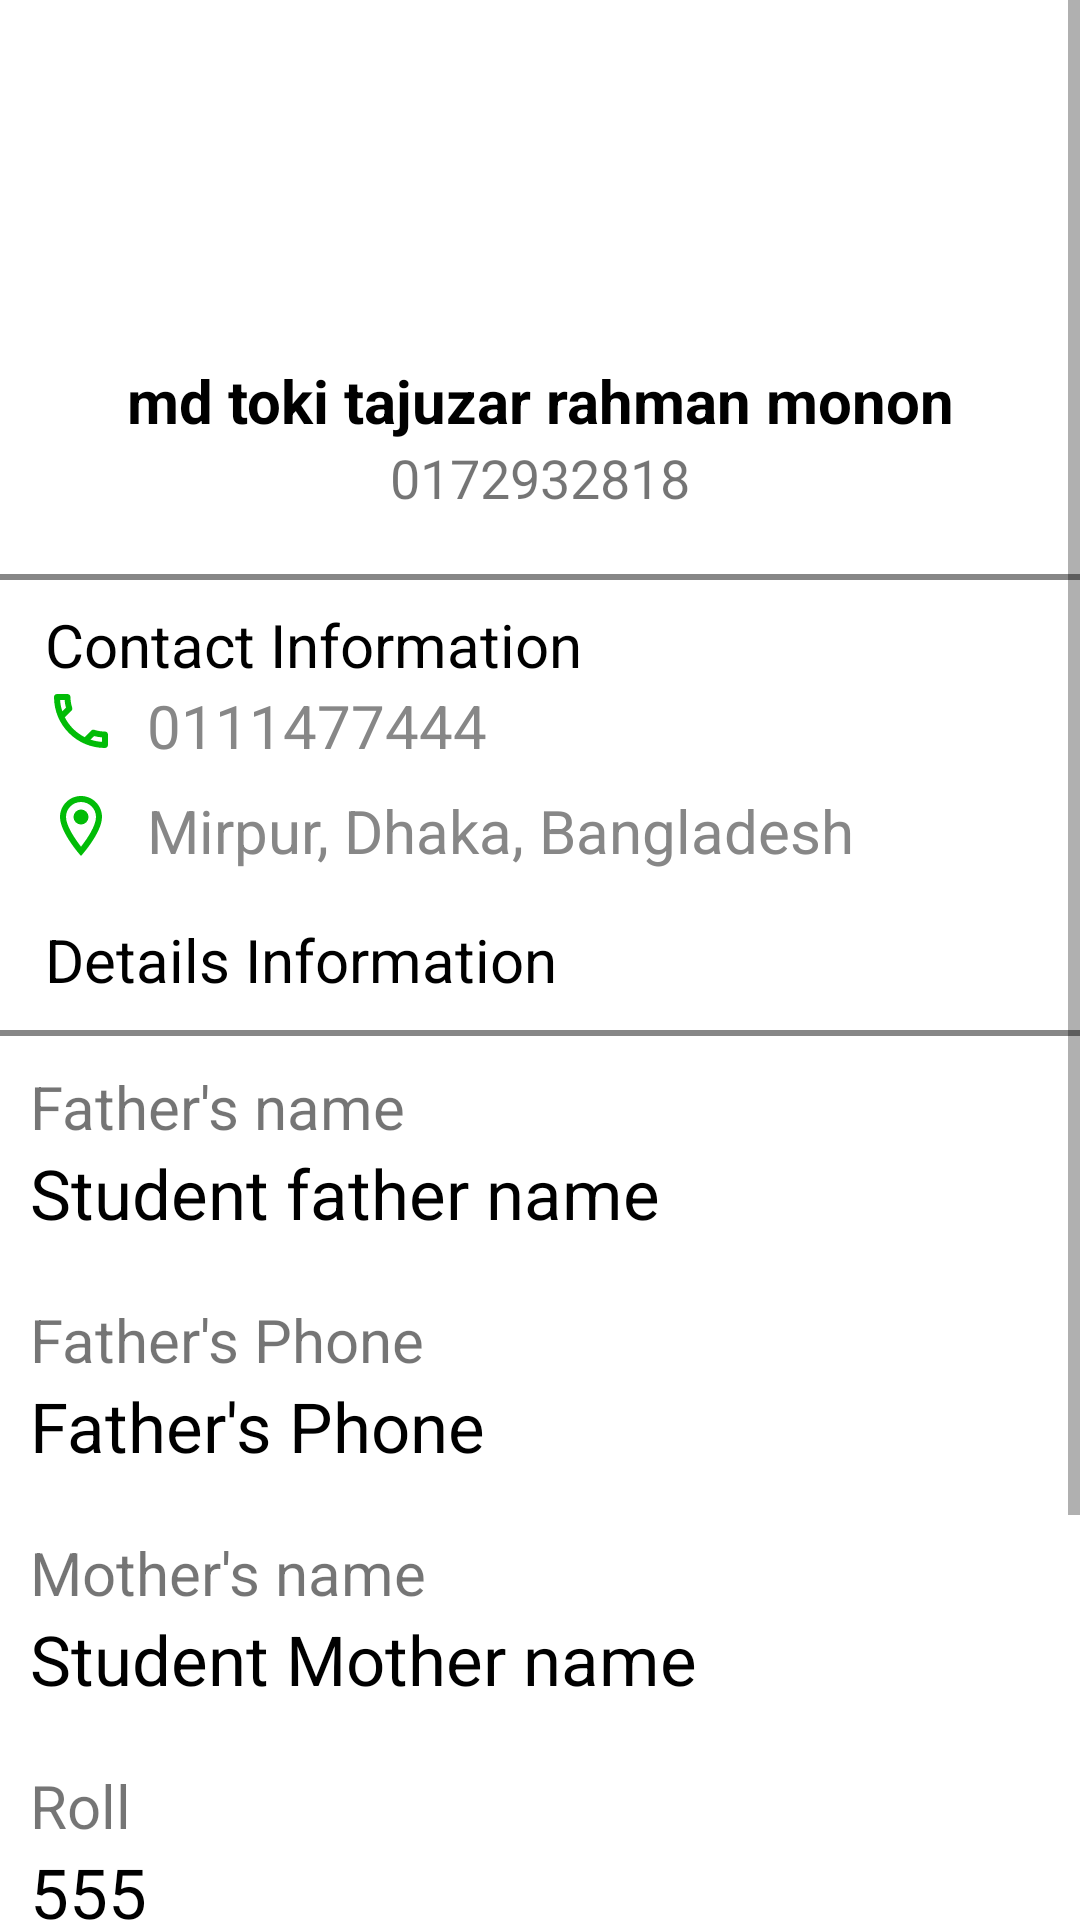

Icon click points for this 1080w x 1920h phone screenshot, format (x,y):
location on: (81,826)
phone: (81,721)
